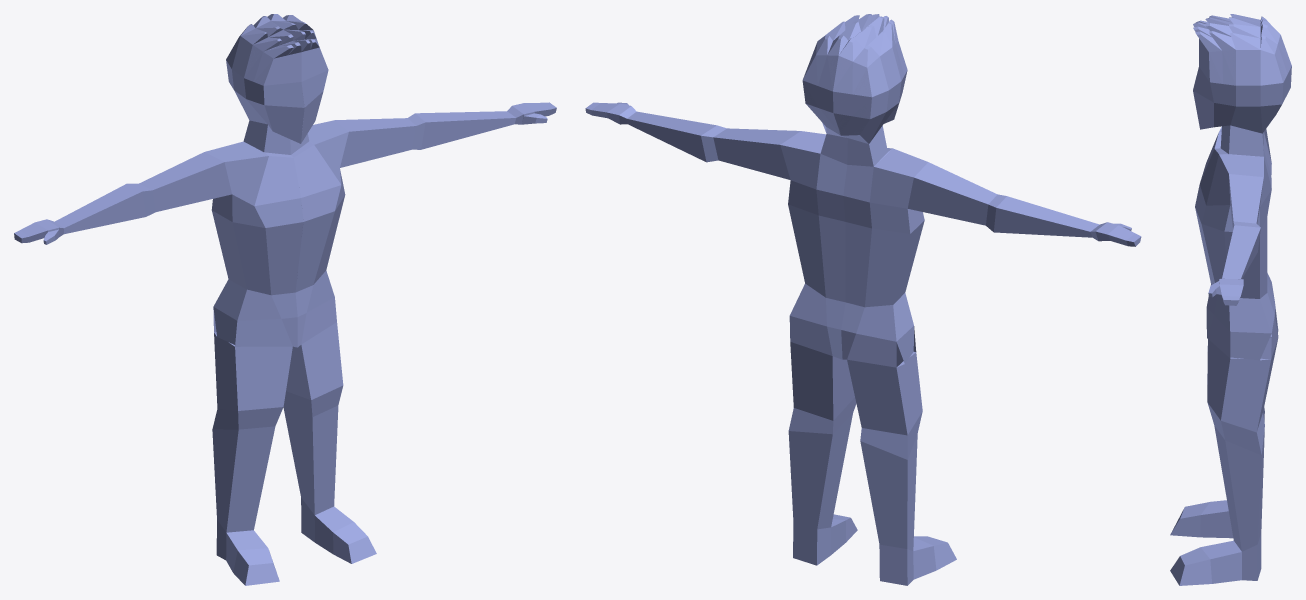
The model's file is character-first.glb.
3 views of the same model, side by side, from view 1: azimuth 30°, elevation 25°; view 2: azimuth 150°, elevation 25°; view 3: azimuth 270°, elevation 25° (orthographic). The views are drawn at different scales.
Parts seen in each view (by area): view 1: 큐브; view 2: 큐브; view 3: 큐브.
Boxes of the visible parts, left/top/right/bottom form: 큐브: left=14, top=14, right=556, bottom=585; 큐브: left=585, top=14, right=1141, bottom=585; 큐브: left=1170, top=14, right=1291, bottom=585.
Bounding box in the file's own units: 14.5 × 13.58 × 2.82.
